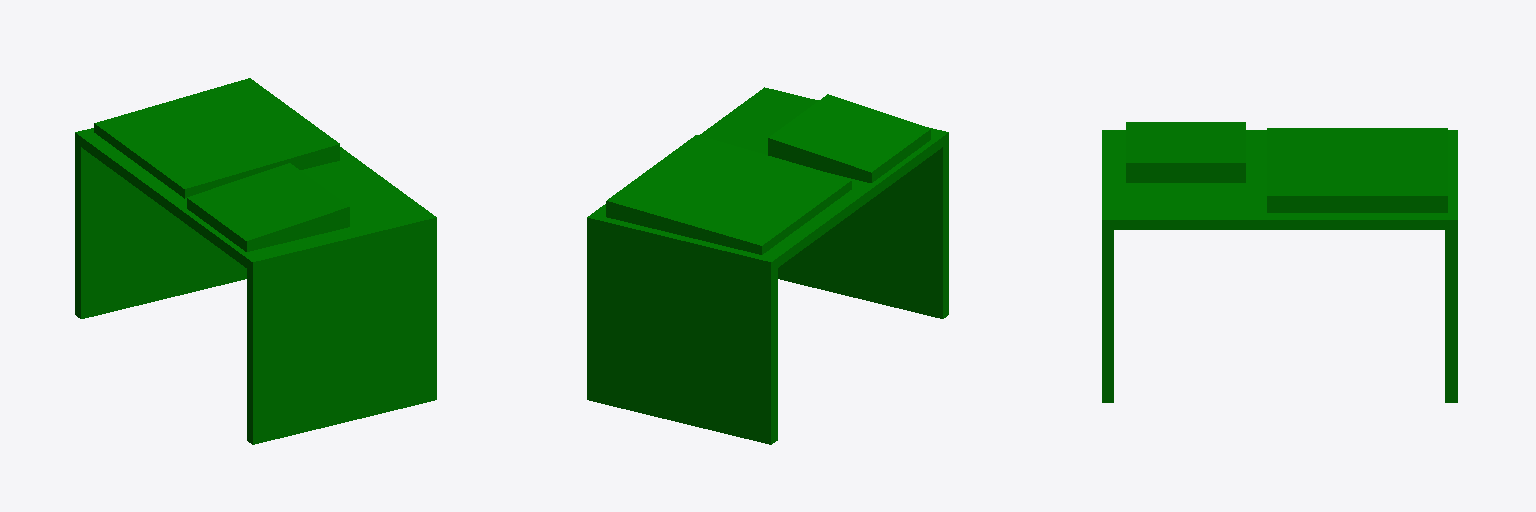
File: studio_controldesk3.obj
The picture shows the model from 3 angles: view 1: azimuth 30°, elevation 25°; view 2: azimuth 150°, elevation 25°; view 3: azimuth 270°, elevation 25°; orthographic projection.
Parts seen in each view (by area): view 1: Box007; view 2: Box007; view 3: Box007.
Part boxes in pixels (bbox=[...]): Box007: bbox=[75, 78, 436, 444]; Box007: bbox=[587, 87, 948, 444]; Box007: bbox=[1102, 122, 1457, 402].
Bounding box in the file's own units: 1.12 × 1.18 × 1.87.